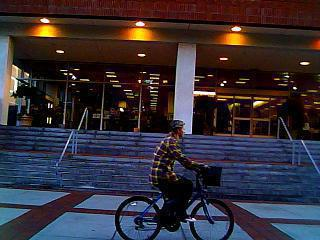Escaleras: (1, 148, 319, 206), (1, 125, 319, 163)
